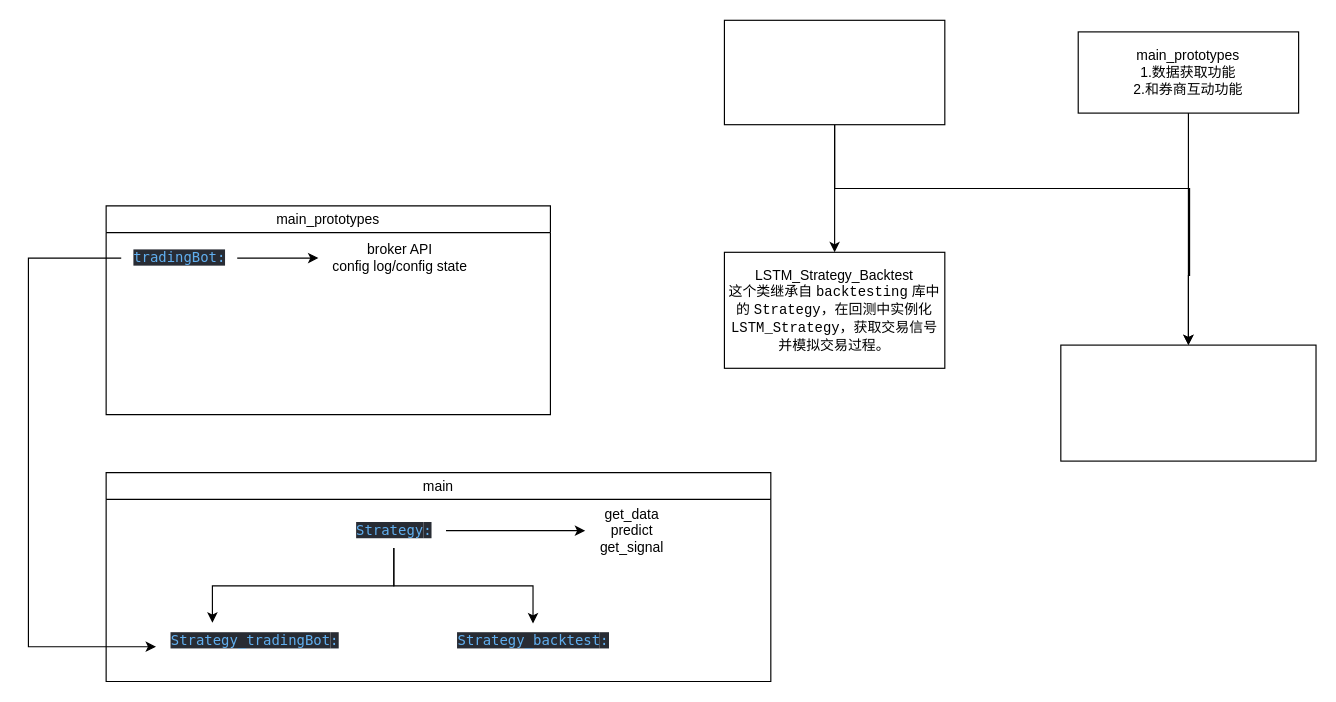
This 1336x702 diagram has some shape labels left out. The shapes that lost their labels are listed below. From the top down, each one's centre as x and y in pixels, then its label:
At point (834, 72): "LSTM_Strategy 类 这个类负责调用模型进行预测，并返回买入或卖出信号。它既可以在生产环境中使用，也可以在回测环境中使用".
At point (1188, 402): "LSTM_tradingBot 这个类继承自 tradingBot ，在生产环境中使用，负责根据 LSTM_Strategy 的信号与券商进行实际交易。".
